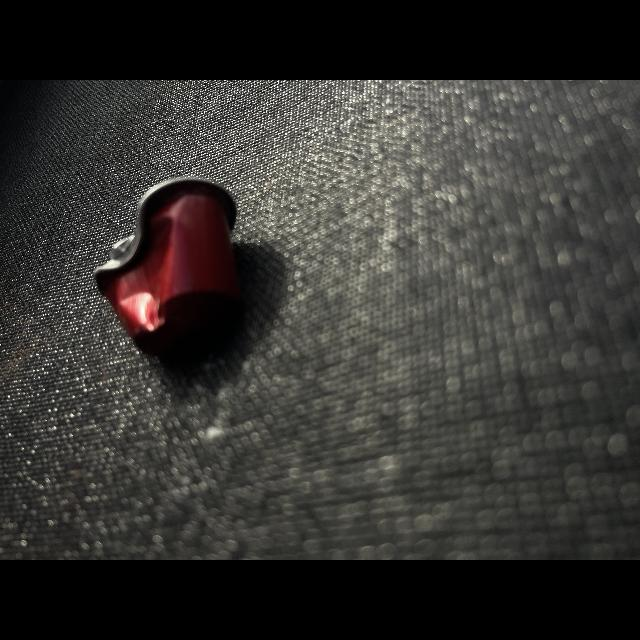damaged_capsule: (81, 160, 265, 382)
